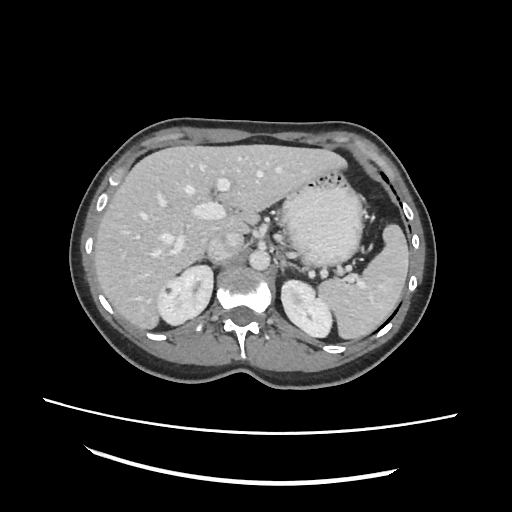Lesion: (161, 285, 174, 300)
